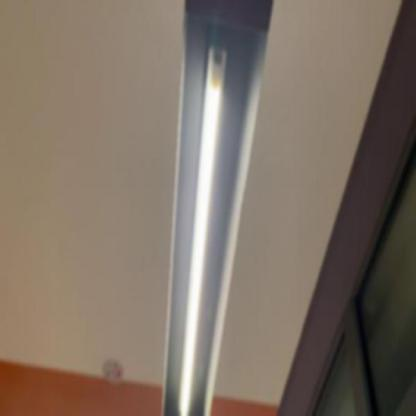light_on: (170, 33, 228, 415)
